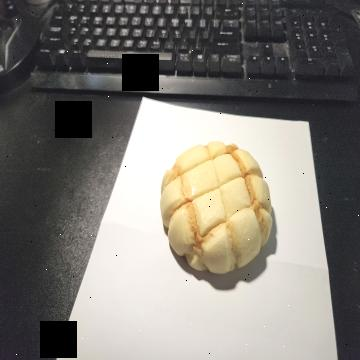melon_bread: (160, 141, 272, 275)
